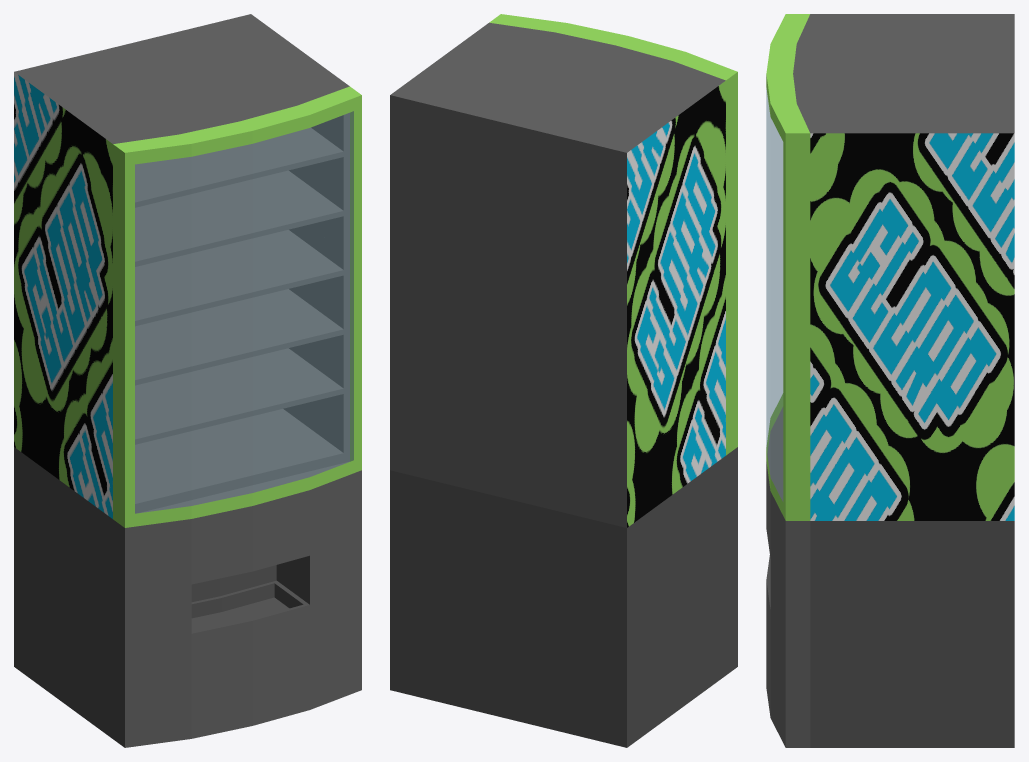
File: vendingmachine.fbx
The picture shows the model from 3 angles, left to right: view 1: azimuth 30°, elevation 25°; view 2: azimuth 150°, elevation 25°; view 3: azimuth 270°, elevation 25°; orthographic projection. The views are drawn at different scales.
Parts seen in each view (by area): view 1: Cylinder; view 2: Cylinder; view 3: Cylinder.
Part boxes in pixels (x1,y1,x2,y2): Cylinder: [14, 14, 361, 747]; Cylinder: [390, 14, 737, 747]; Cylinder: [766, 14, 1014, 747].
Bounding box in the file's own units: 75 × 65.88 × 180.
